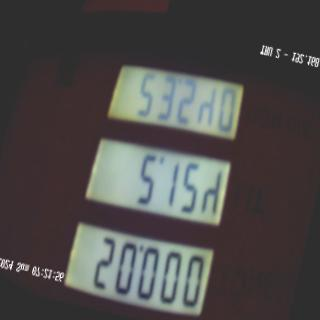screen: (56, 18, 269, 320)
